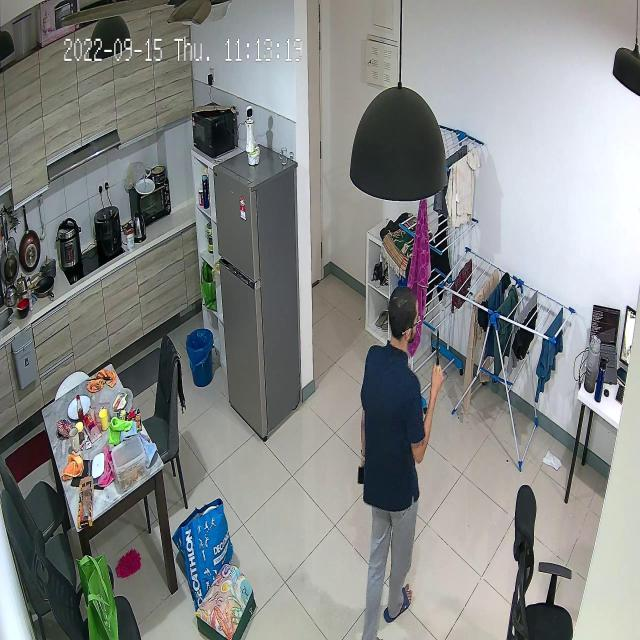Knife: (431, 329, 447, 373)
